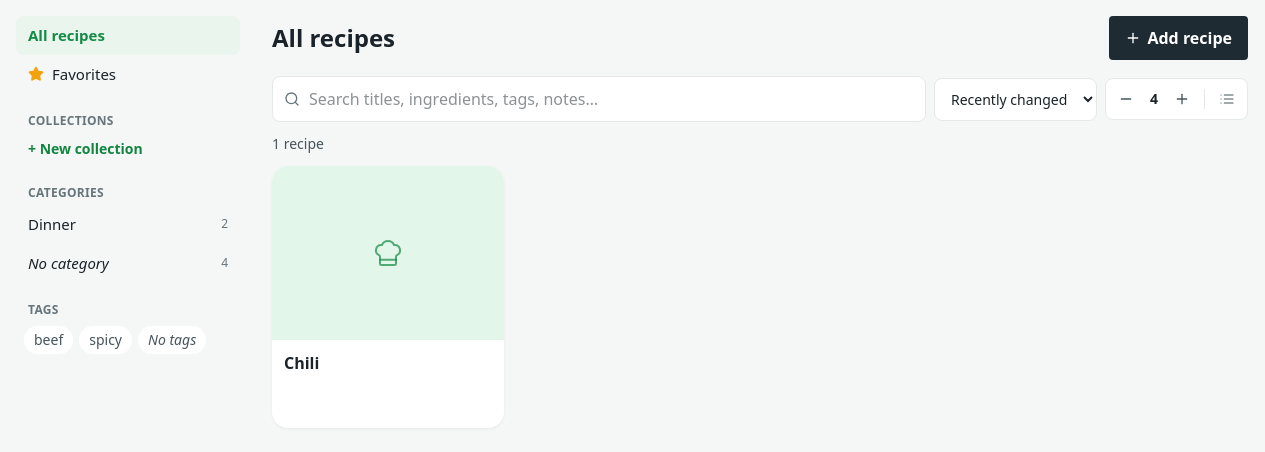
Test: a new collection from the sidebar › a name that's taken says so; Escape cancels
Click the button "+ New collection": point(128, 149) [16, 133, 240, 165]
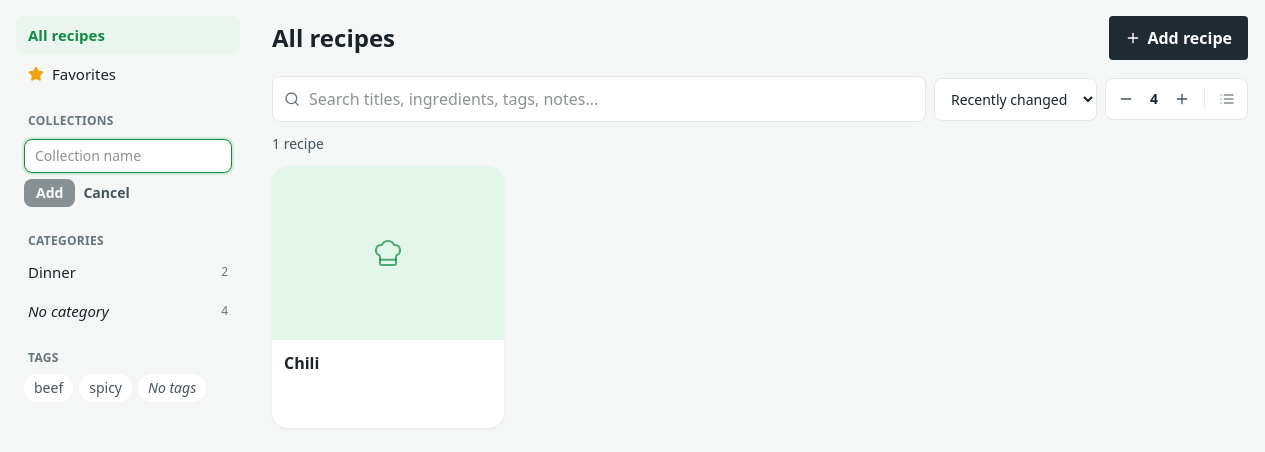
In the field named "New collection name": point(128, 156) [24, 139, 232, 173], type "Soups"
Then press Enter
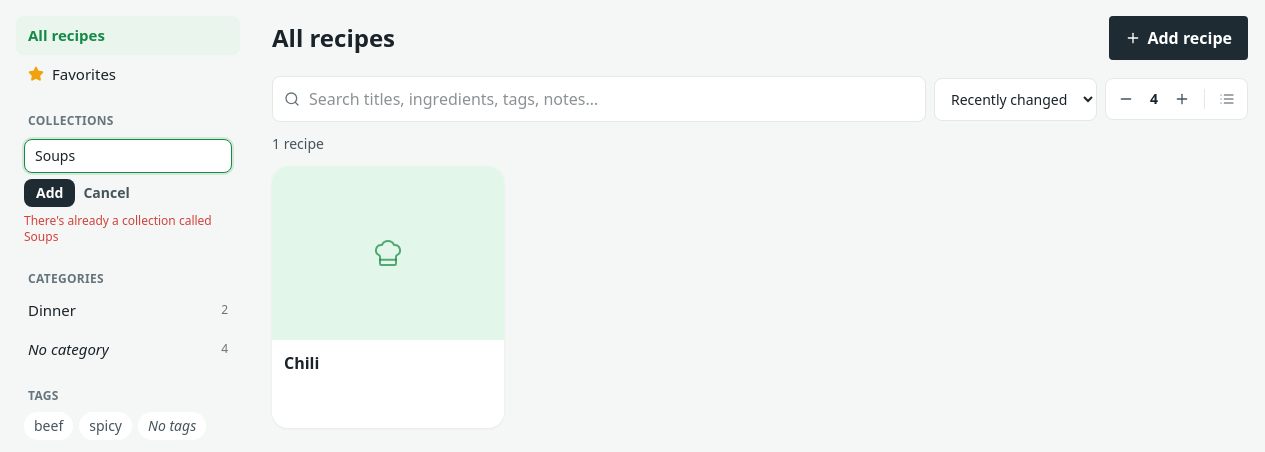
Expected: the message shows "already a collection called Soups", [24, 212, 212, 245]
Press Escape
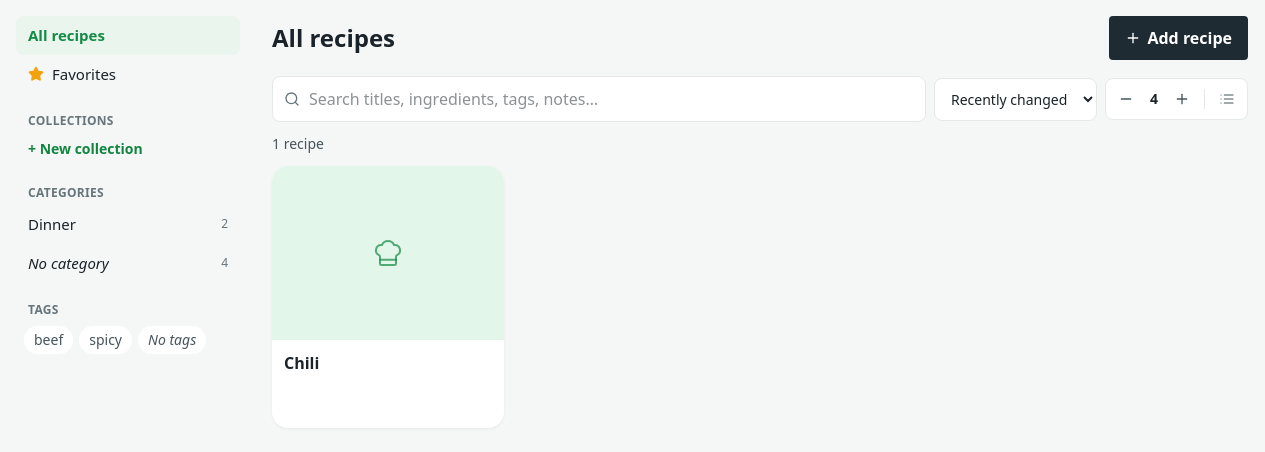
Expected: the button "+ New collection" is shown, [16, 133, 240, 165]
